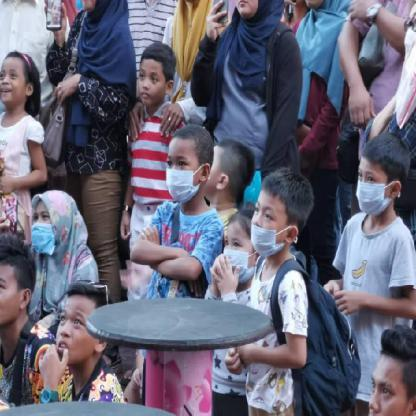Not_Wearing_Mask: (52, 306, 99, 364), (367, 368, 412, 415), (0, 68, 28, 108), (138, 64, 164, 104)
Wearing_Mask: (249, 197, 288, 257), (354, 162, 390, 215), (165, 152, 200, 204), (221, 232, 255, 284), (29, 207, 56, 253)
